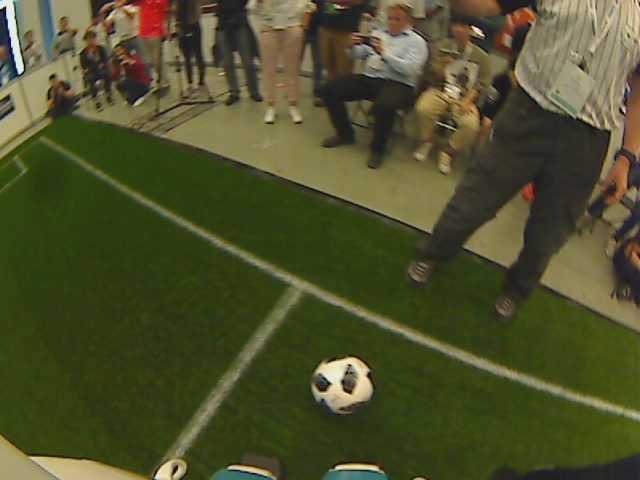ball: (309, 354, 376, 414)
